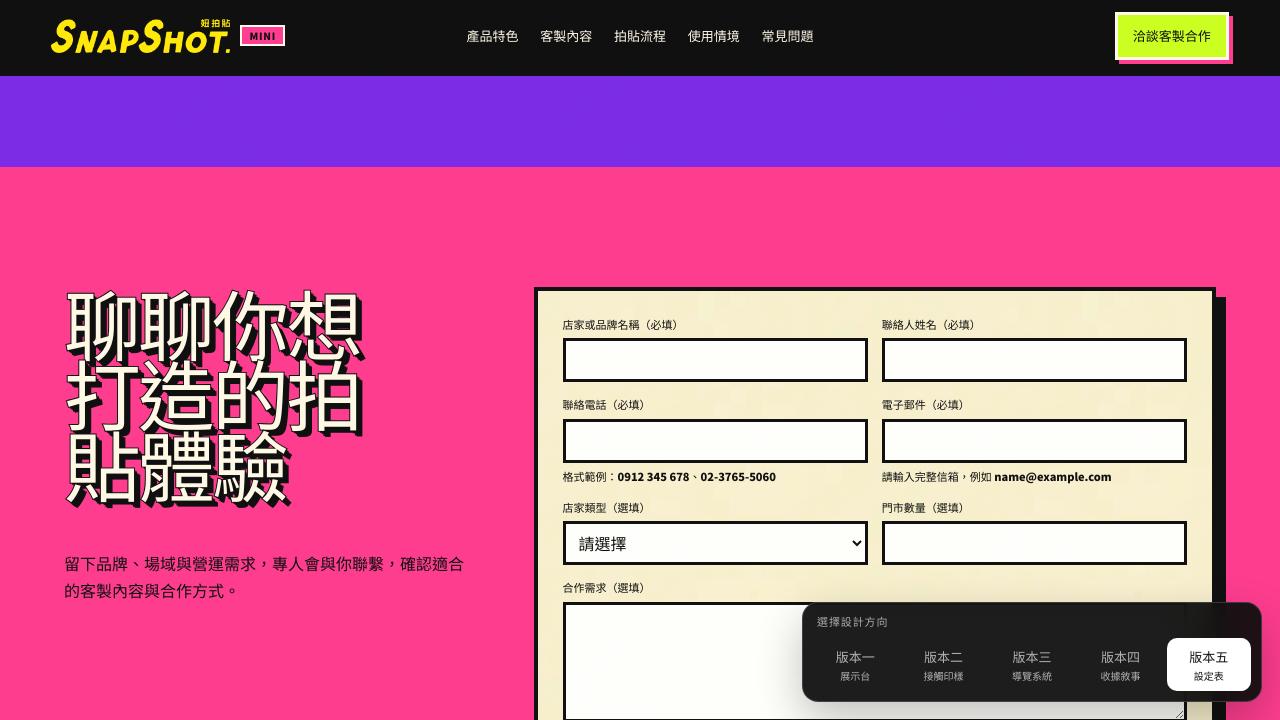
SnapShotMini landing page directions › shows a specific error for an invalid phone number
The image size is (1280, 720).
(page scrolled)
Type "測試品牌" into the field labelled "店家或品牌名稱（必填）".
click(715, 360); type("測試品牌")  # box top-left (562, 338), bottom-right (868, 382)
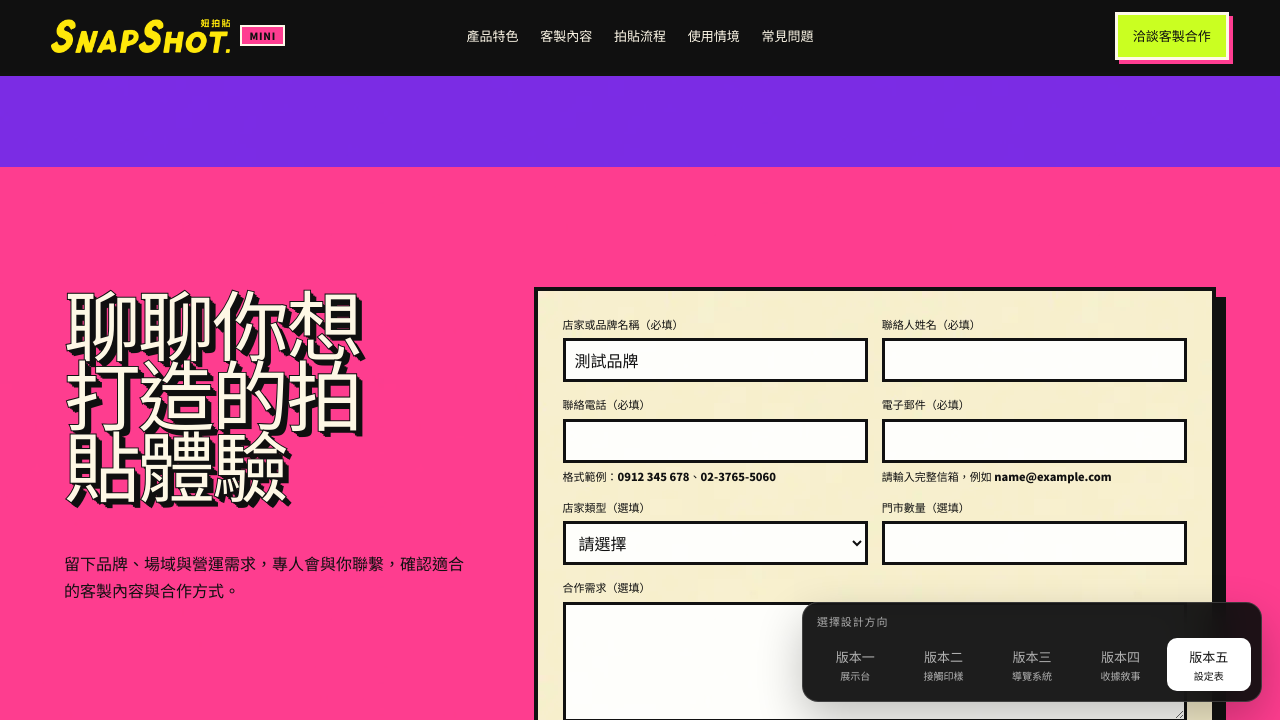
Type "陳小姐" into the field labelled "聯絡人姓名（必填）".
click(1034, 360); type("陳小姐")  # box top-left (882, 338), bottom-right (1187, 382)
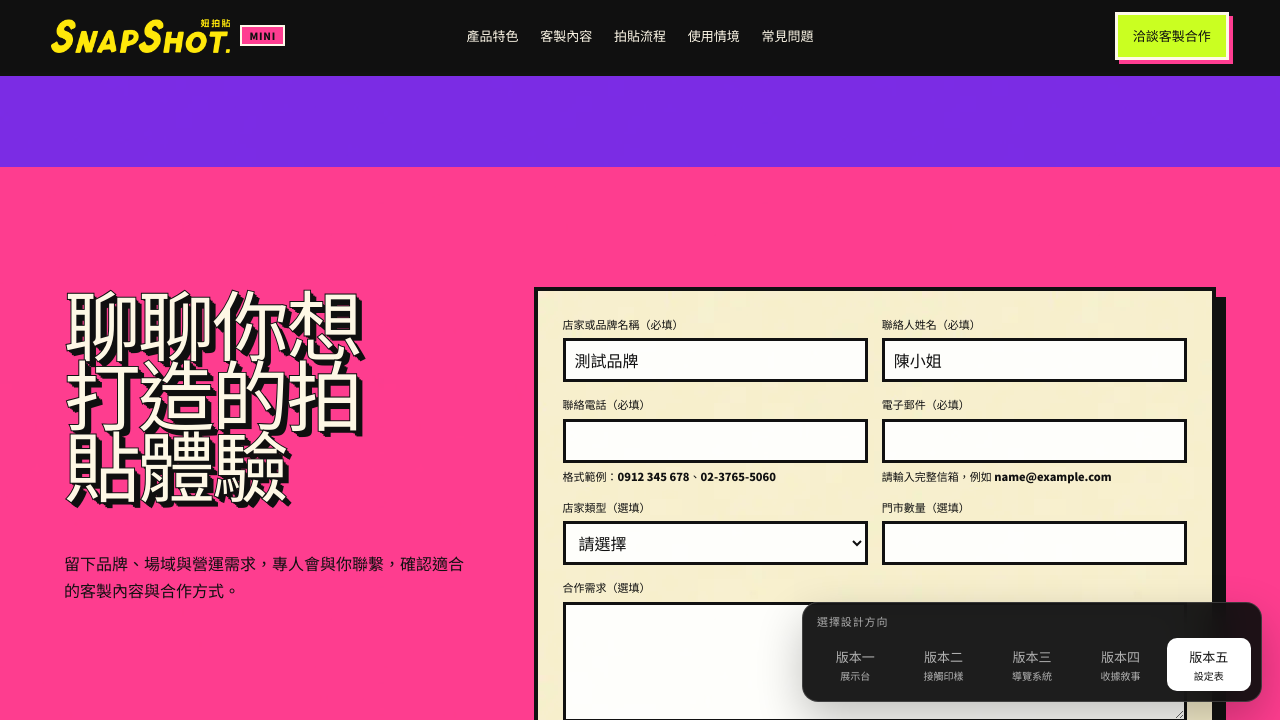
Type "1234" into the field labelled "聯絡電話（必填） 格式範例：0912 345 678、02-3765-5060".
click(715, 441); type("1234")  # box top-left (562, 419), bottom-right (868, 463)
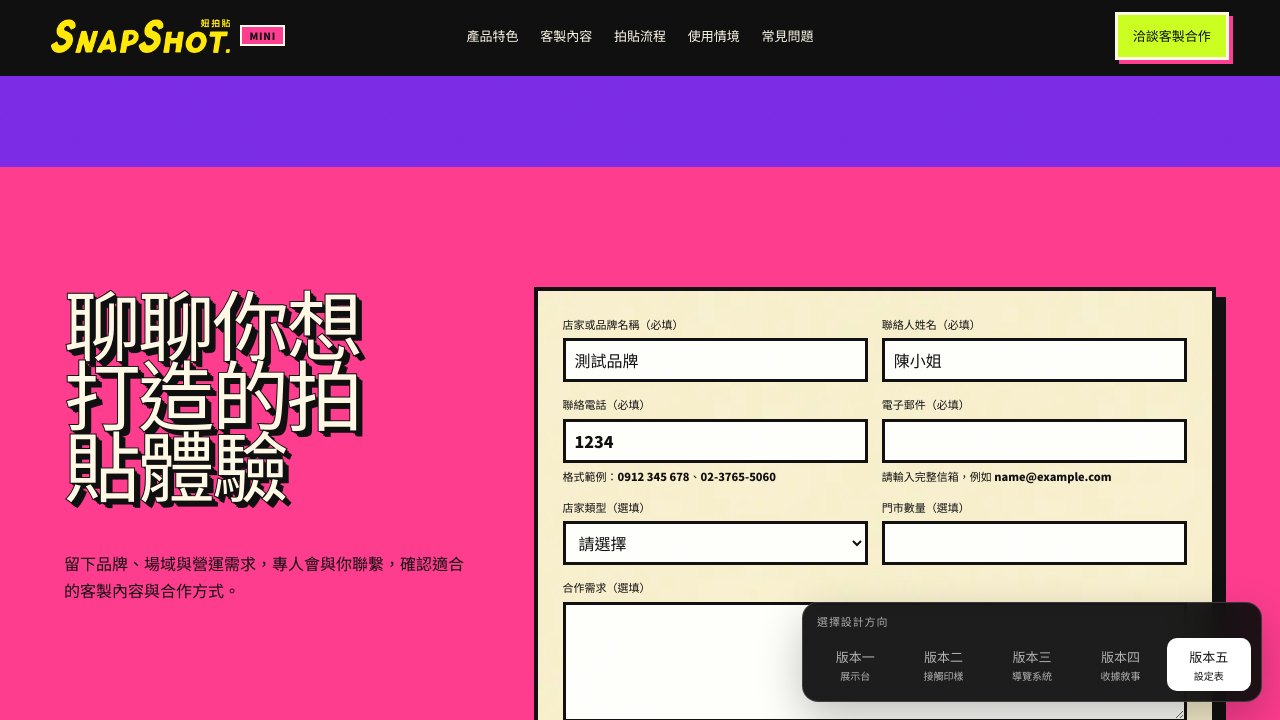
Type "visitor@example.com" into the field labelled "電子郵件（必填） 請輸入完整信箱，例如 name@example.com".
click(1034, 441); type("visitor@example.com")  # box top-left (882, 419), bottom-right (1187, 463)
(page scrolled)
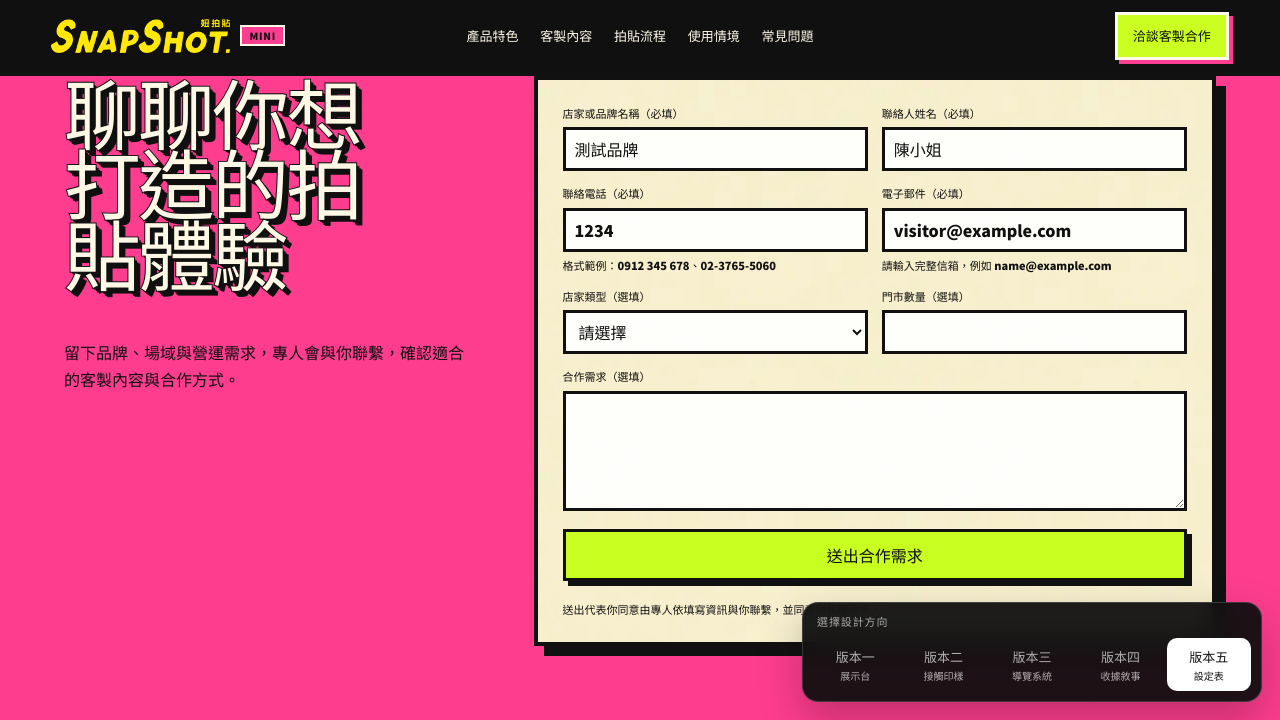
Submit the form named "送出合作需求", box top-left (534, 76), bottom-right (1216, 646)
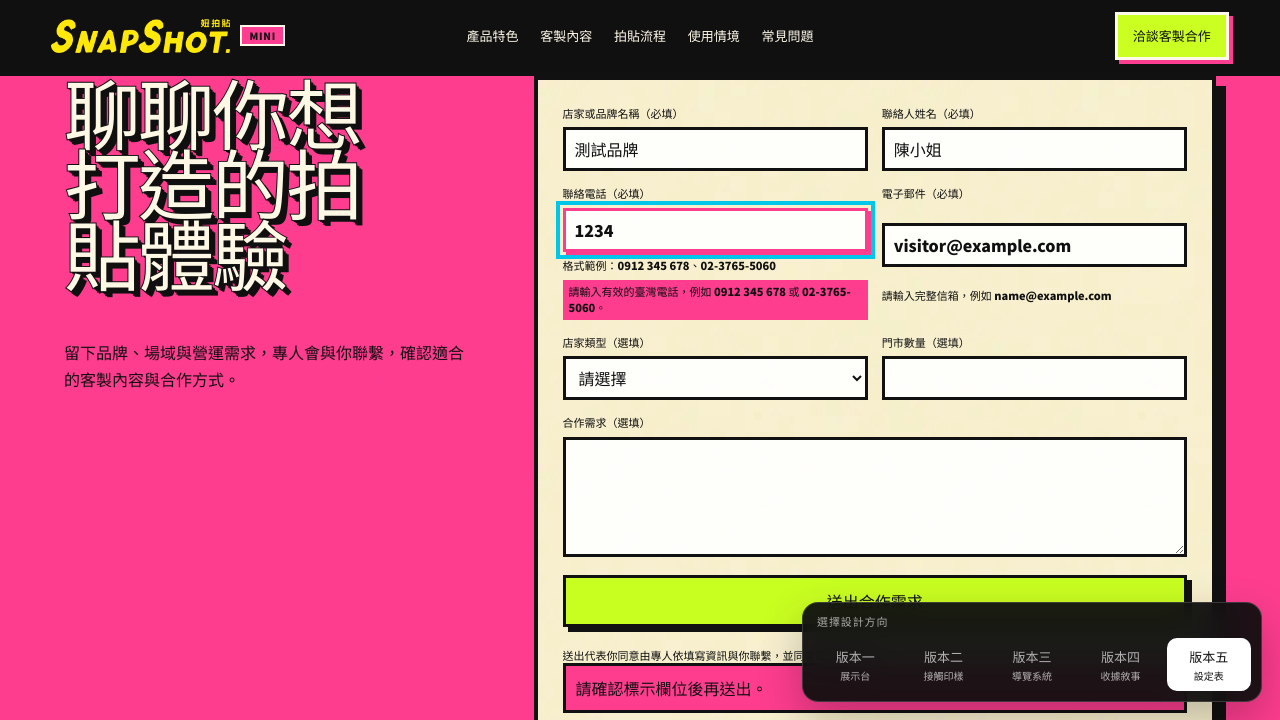
Expected: the text "請輸入有效的臺灣電話，例如 0912 345 678 或 02-3765-5060。" is shown, top-left (562, 280), bottom-right (868, 320)
